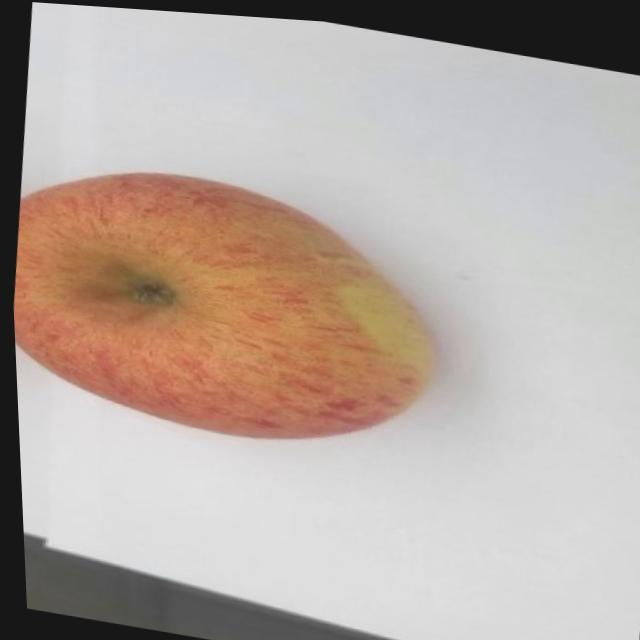Apple: (5, 142, 449, 466)
